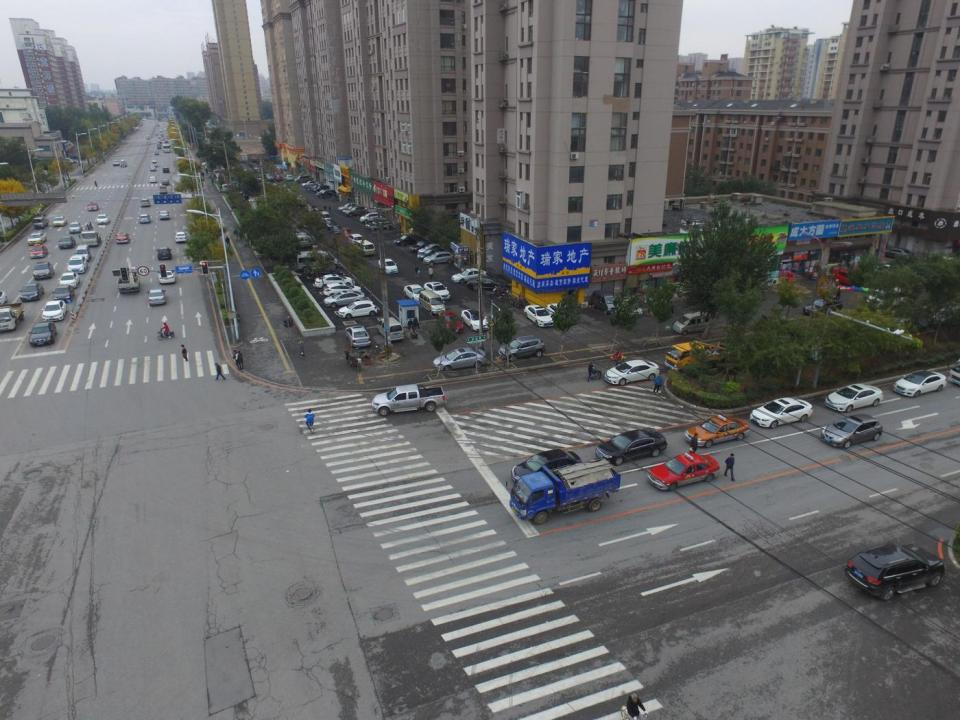car: (844, 542, 944, 599), (596, 428, 667, 468), (646, 452, 718, 489), (512, 449, 584, 485), (748, 396, 814, 430), (820, 413, 883, 446), (685, 413, 748, 446), (824, 382, 883, 414), (892, 369, 946, 399), (604, 360, 660, 387), (434, 347, 489, 373), (499, 335, 545, 362), (524, 305, 556, 331), (27, 322, 57, 346), (338, 301, 378, 319), (323, 291, 365, 308), (462, 308, 492, 330), (439, 310, 465, 335), (806, 298, 841, 316), (344, 326, 372, 348), (466, 276, 504, 292), (423, 281, 452, 301), (314, 274, 355, 288), (42, 300, 66, 323), (618, 296, 644, 316), (450, 269, 486, 283), (20, 282, 45, 302), (404, 285, 428, 305), (393, 233, 426, 247), (32, 260, 55, 280), (546, 303, 570, 322), (883, 246, 914, 260), (424, 252, 452, 267), (310, 268, 346, 279), (409, 239, 435, 253), (146, 288, 166, 306), (51, 284, 73, 300), (59, 273, 81, 289), (379, 257, 399, 274), (157, 269, 178, 285), (368, 218, 392, 232), (326, 218, 344, 236), (419, 247, 442, 260), (26, 232, 47, 245), (416, 243, 442, 253), (29, 245, 48, 258), (156, 247, 172, 261), (115, 230, 130, 244), (360, 212, 381, 222), (346, 204, 362, 217), (58, 237, 76, 248), (174, 231, 188, 244), (348, 208, 368, 217), (337, 203, 356, 212), (340, 228, 353, 241), (68, 222, 83, 233), (296, 174, 312, 184), (320, 189, 336, 199), (54, 215, 67, 226), (86, 201, 99, 212), (97, 214, 109, 225), (302, 180, 317, 188), (138, 214, 151, 223), (309, 184, 322, 193), (314, 188, 328, 195), (276, 173, 284, 184), (149, 160, 158, 168), (161, 166, 170, 174), (159, 212, 169, 219), (148, 176, 157, 183), (285, 175, 295, 180), (162, 179, 169, 186), (160, 187, 167, 194), (151, 164, 157, 171), (121, 160, 126, 168), (113, 160, 119, 165)
truck: (508, 457, 620, 527), (371, 384, 446, 416), (117, 259, 141, 296), (0, 304, 25, 331)
van: (665, 339, 733, 371), (671, 311, 712, 336), (291, 248, 332, 270), (591, 288, 621, 314), (418, 289, 445, 314), (377, 317, 405, 340), (80, 222, 102, 248), (292, 231, 314, 250), (67, 255, 87, 274), (358, 239, 374, 258), (74, 245, 90, 263), (32, 216, 50, 229), (316, 211, 332, 222), (348, 234, 362, 244), (140, 198, 151, 206)
